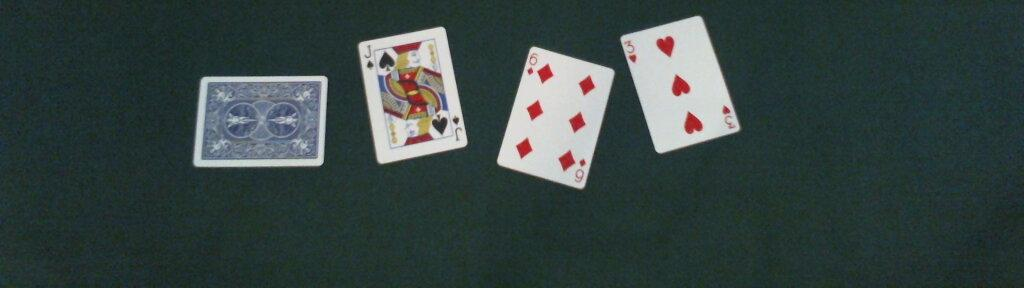back: (191, 76, 328, 167)
jack: (357, 27, 469, 165)
